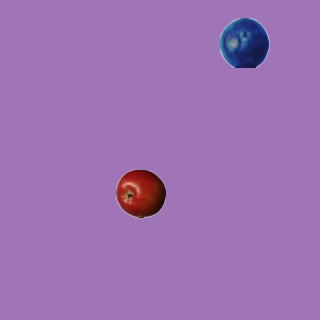Apple Braeburn: (115, 168, 165, 218)
Huckleberry: (219, 17, 269, 67)
